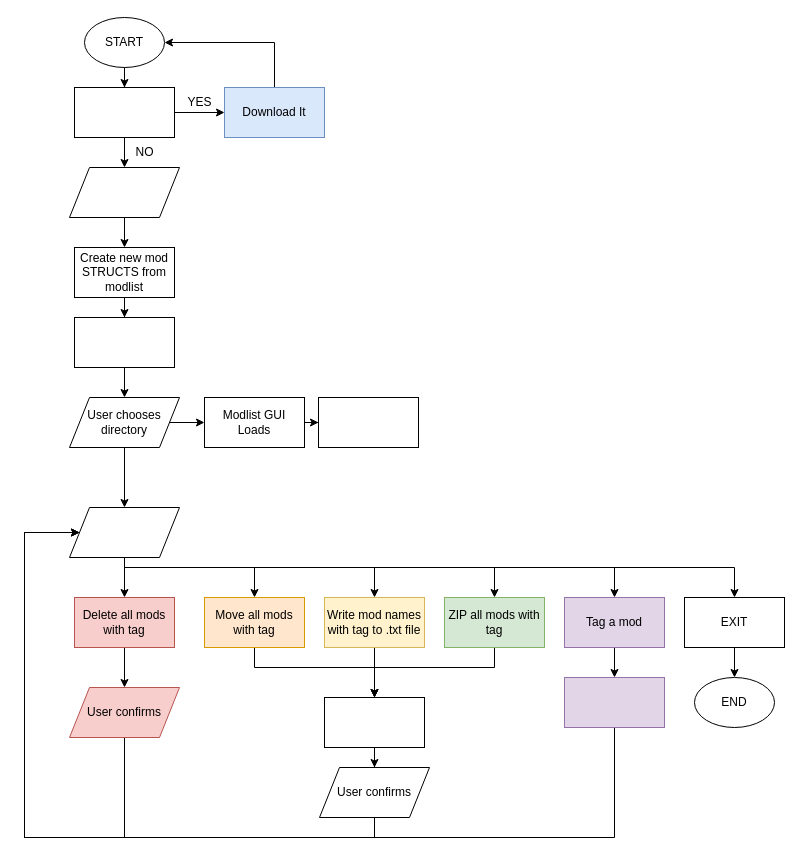
The diagram is 802 pixels wide and 863 high, and some of its shapes have lost their labels. Here are the shapes that lost their labels. From the top down, the box of each, then its label:
(74, 86, 174, 138): Is there a new version of the main module?
(68, 166, 180, 218): User selects desired module
(74, 316, 174, 368): Create new module STRUCT
(318, 396, 418, 448): Shows directory of mods with type tags
(68, 506, 180, 558): User makes a choice from available tools
(324, 696, 424, 748): Choose Directory for operation
(564, 676, 664, 728): Option to submit new tag to module author
